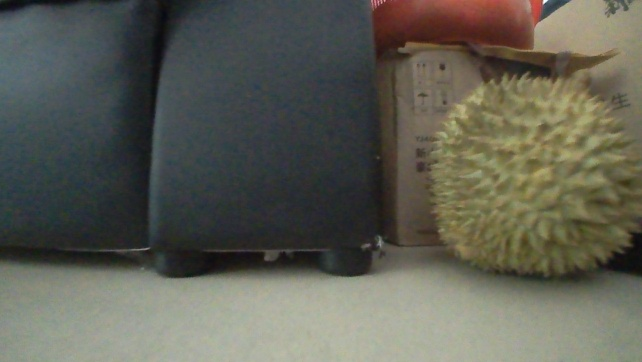sofa1: (0, 0, 390, 283)
